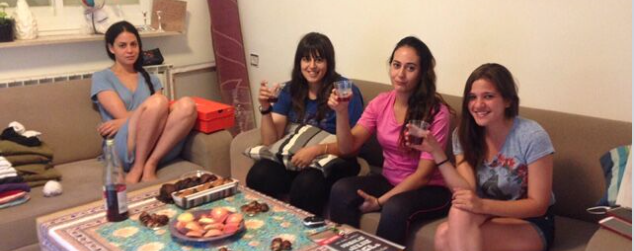Person: (322, 28, 454, 251), (410, 56, 556, 251), (235, 28, 370, 226), (80, 12, 202, 189)
